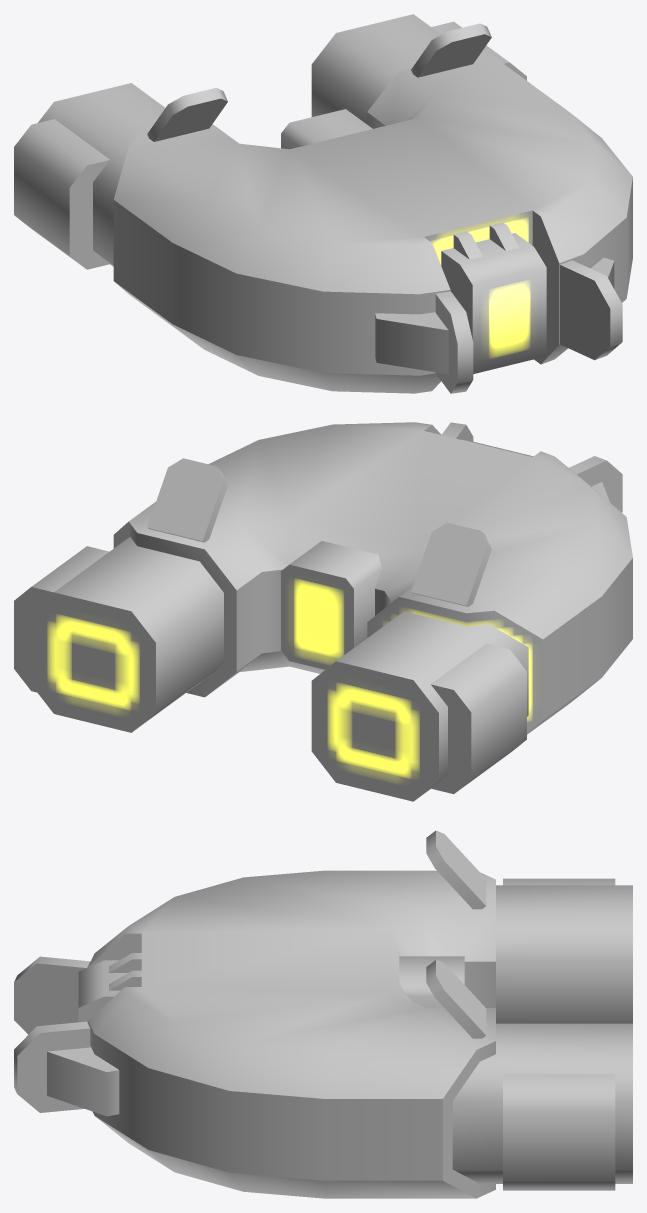
Rendered from Enemy_Shotgun.gltf.
3 renders of one model, top to bottom at view 1: azimuth 30°, elevation 25°; view 2: azimuth 150°, elevation 25°; view 3: azimuth 270°, elevation 25°, orthographic.
Visible parts, largest first — view 1: imported_Meshes; view 2: imported_Meshes; view 3: imported_Meshes.
Boxes of the visible parts, left/top/right/bottom form: imported_Meshes: left=14, top=14, right=632, bottom=393; imported_Meshes: left=14, top=422, right=632, bottom=801; imported_Meshes: left=14, top=830, right=632, bottom=1198.
Size of the model in its own units: 0.1765 by 0.0756 by 0.2059.
